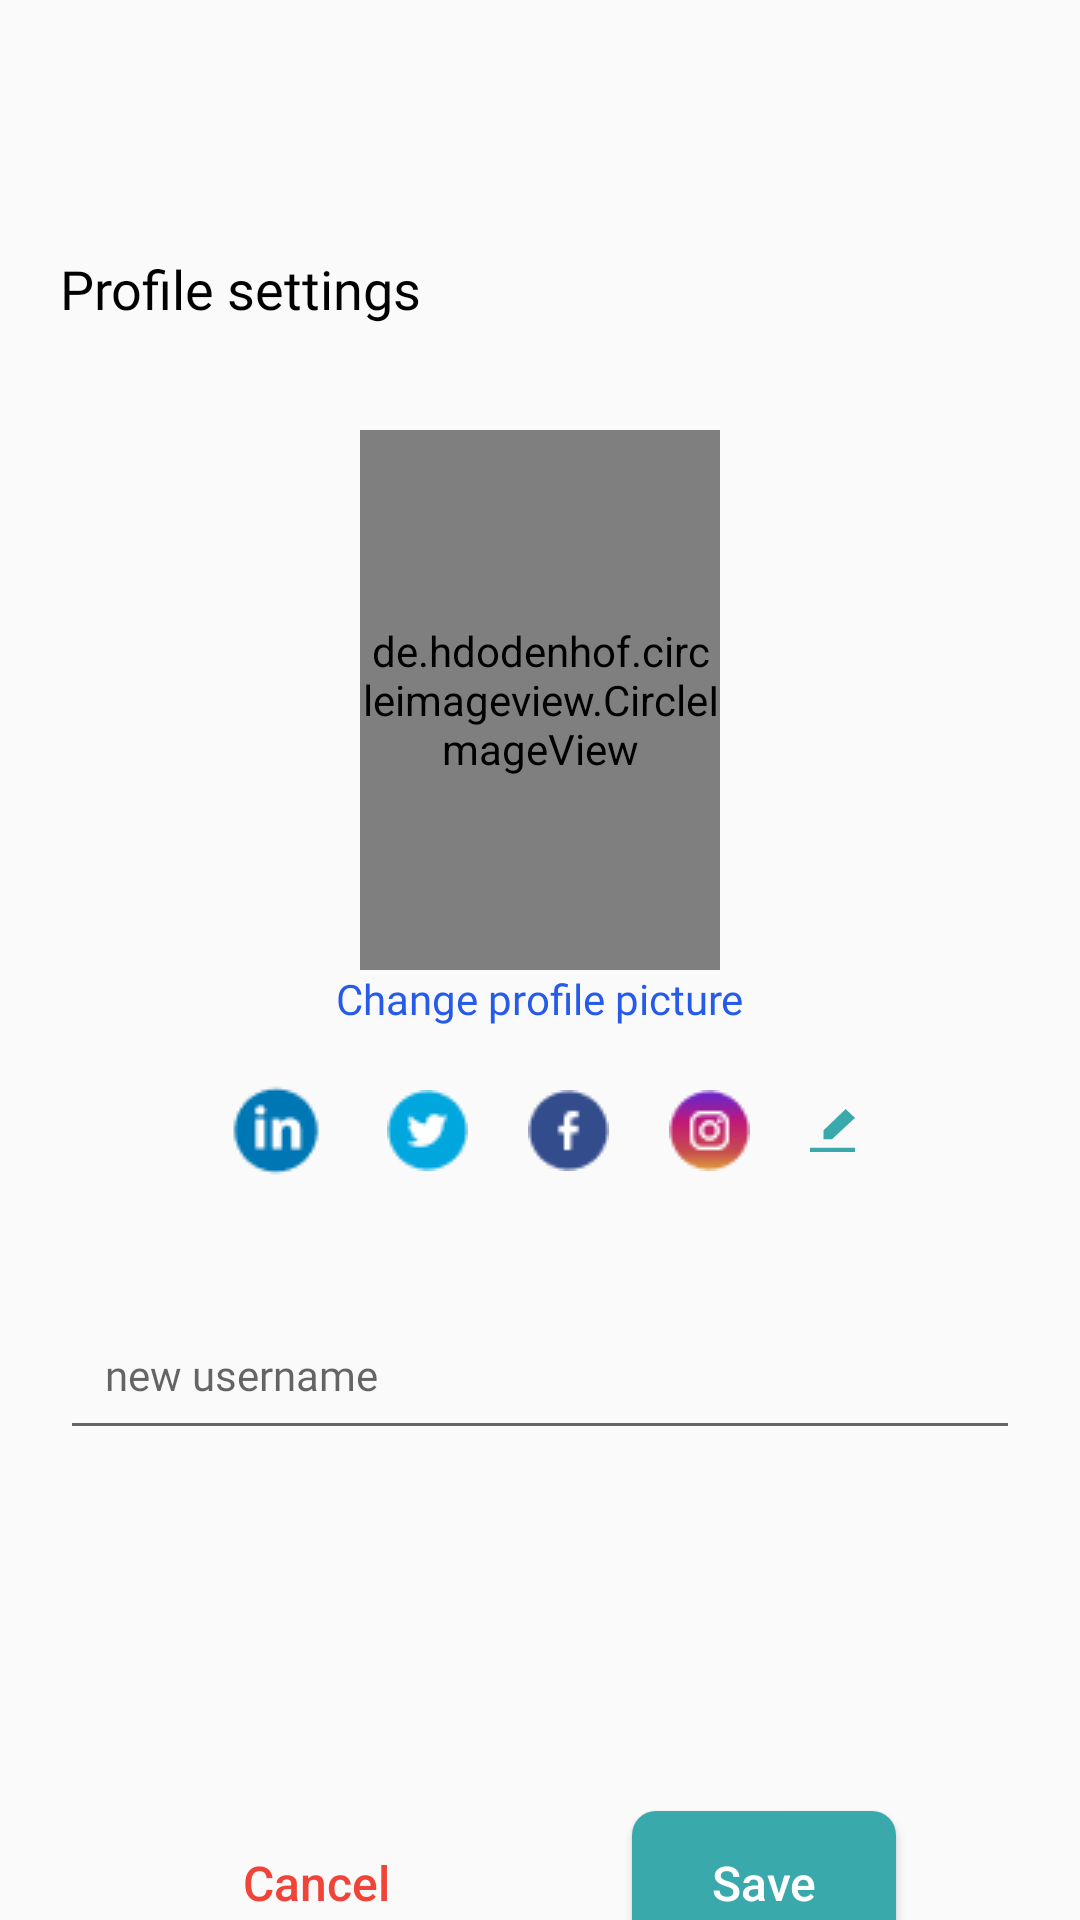

Icons on this 1080×1920 Android screen, each with the point to tap as (x=x, y=y):
edit: (x=832, y=1130)
